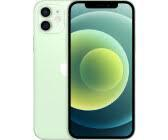Smartphone: (68, 3, 133, 135), (37, 5, 74, 140)
